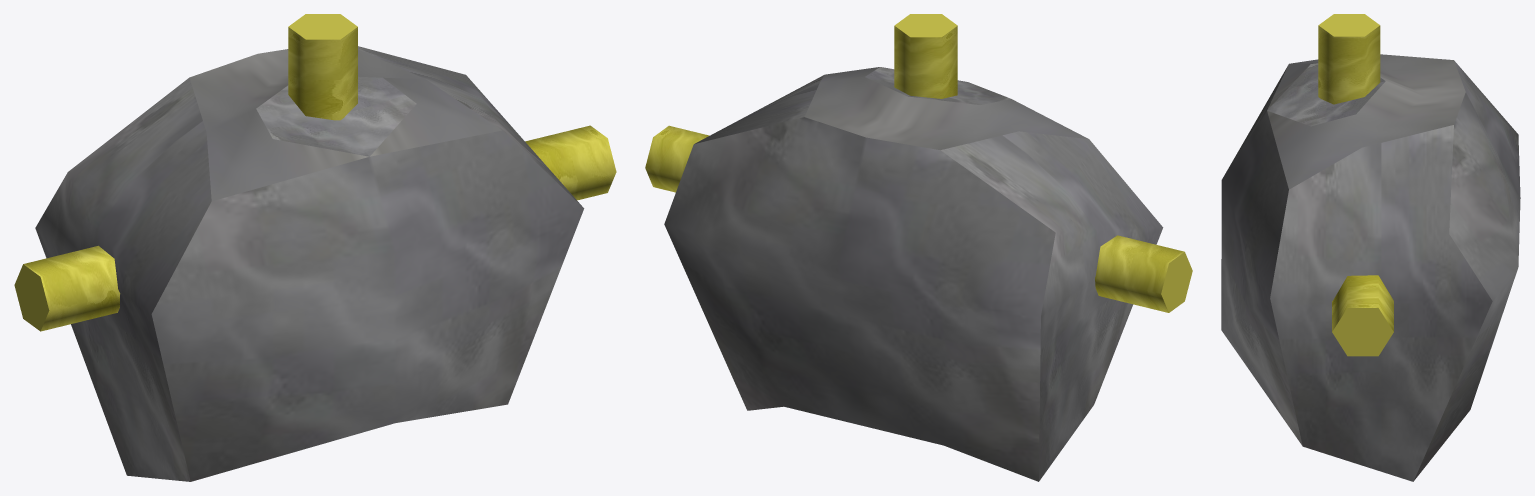
The model's file is crew_torso.gltf.
3 renders of one model, left to right at view 1: azimuth 30°, elevation 25°; view 2: azimuth 150°, elevation 25°; view 3: azimuth 270°, elevation 25°, orthographic. The views are drawn at different scales.
Parts seen in each view (by area): view 1: Mesh_1, Mesh_3, Mesh_2; view 2: Mesh_1, Mesh_3, Mesh_2; view 3: Mesh_1, Mesh_3, Mesh_2.
Part boxes in pixels (x1=…): Mesh_1: x1=35, y1=46, x2=584, y2=481; Mesh_3: x1=14, y1=14, x2=616, y2=331; Mesh_2: x1=256, y1=76, x2=416, y2=156; Mesh_1: x1=664, y1=67, x2=1163, y2=481; Mesh_3: x1=645, y1=14, x2=1192, y2=312; Mesh_2: x1=865, y1=67, x2=1010, y2=104; Mesh_1: x1=1221, y1=54, x2=1520, y2=481; Mesh_3: x1=1318, y1=14, x2=1393, y2=356; Mesh_2: x1=1267, y1=63, x2=1385, y2=126.
Bounding box in the file's own units: 0.5399 × 0.3968 × 0.2778.
Materials: 3 (3 with a texture image).
